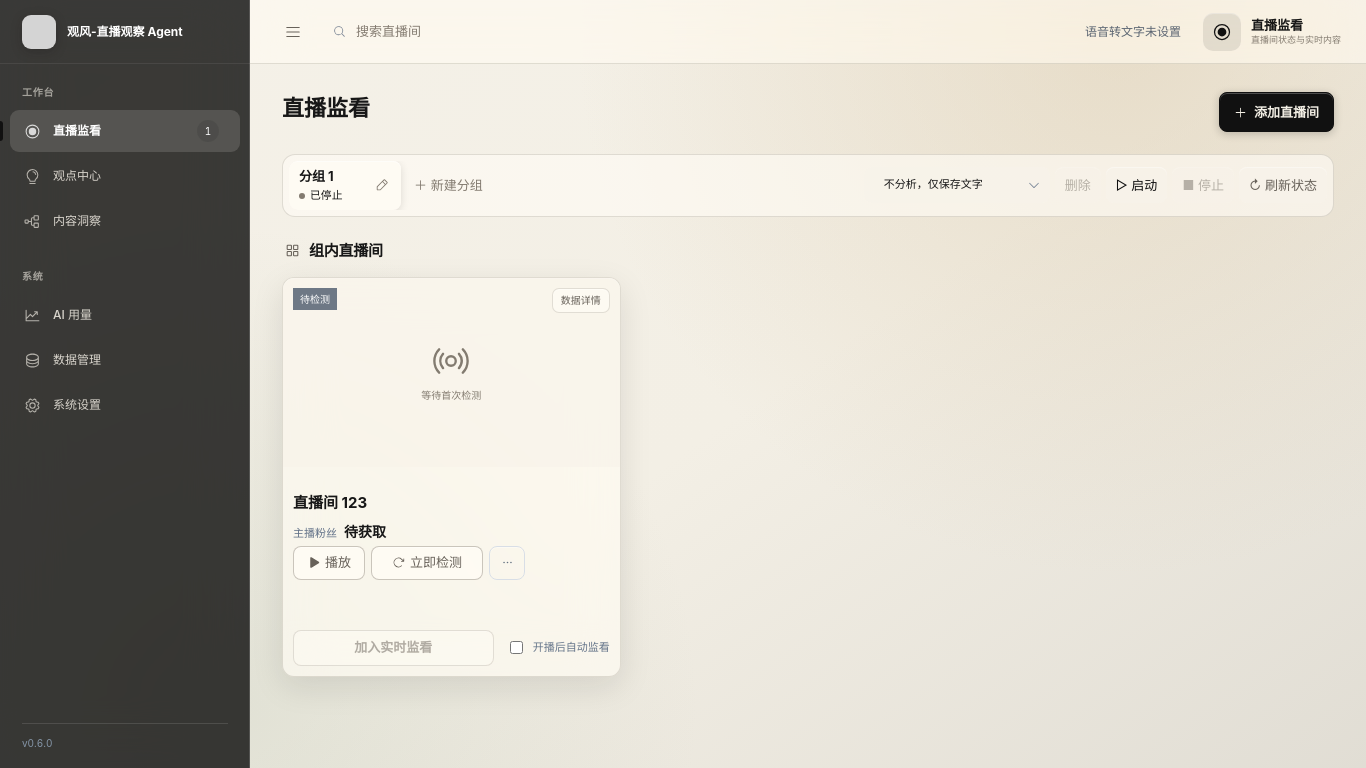
it: room form › opens an existing room for editing
Click the button named "更多操作".
click(507, 562)  # box [489,546,525,580]
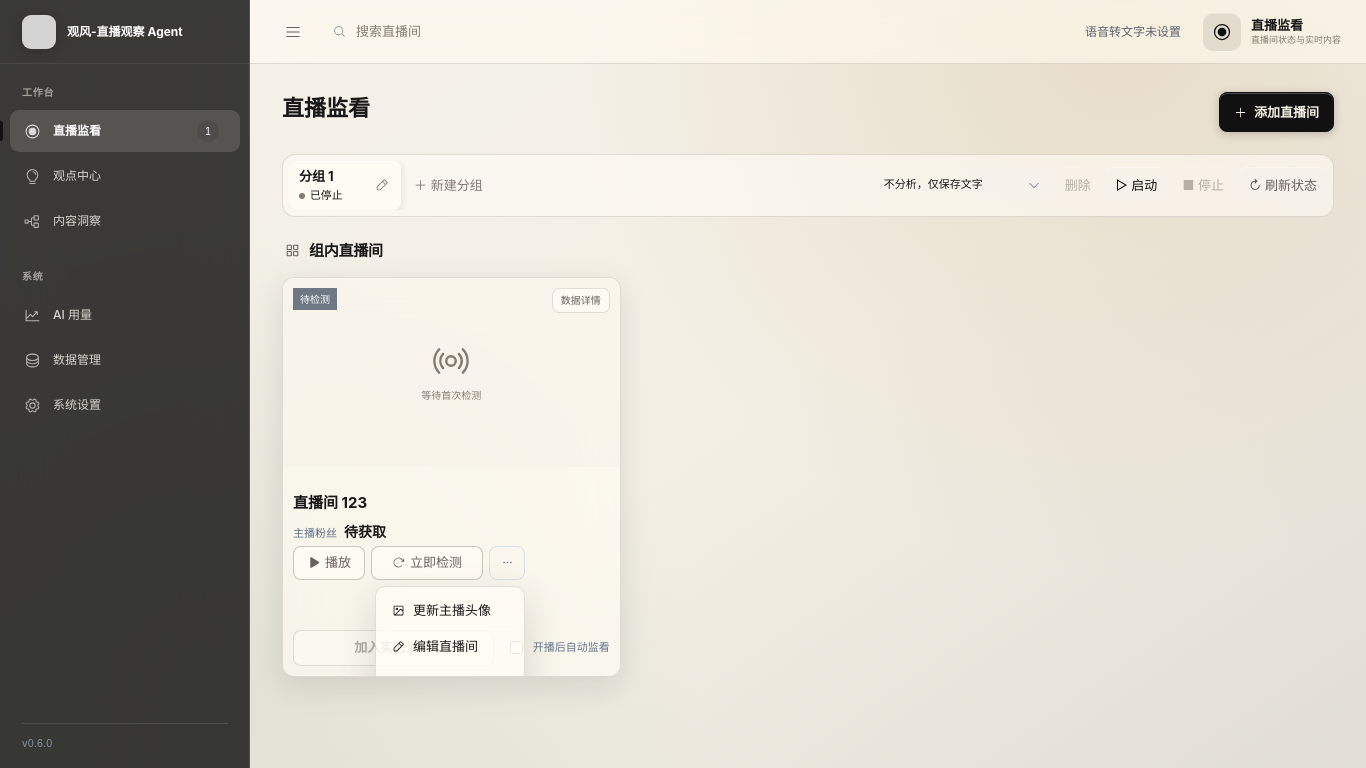
Click the menu item "编辑直播间".
click(450, 646)  # box [382,628,518,664]
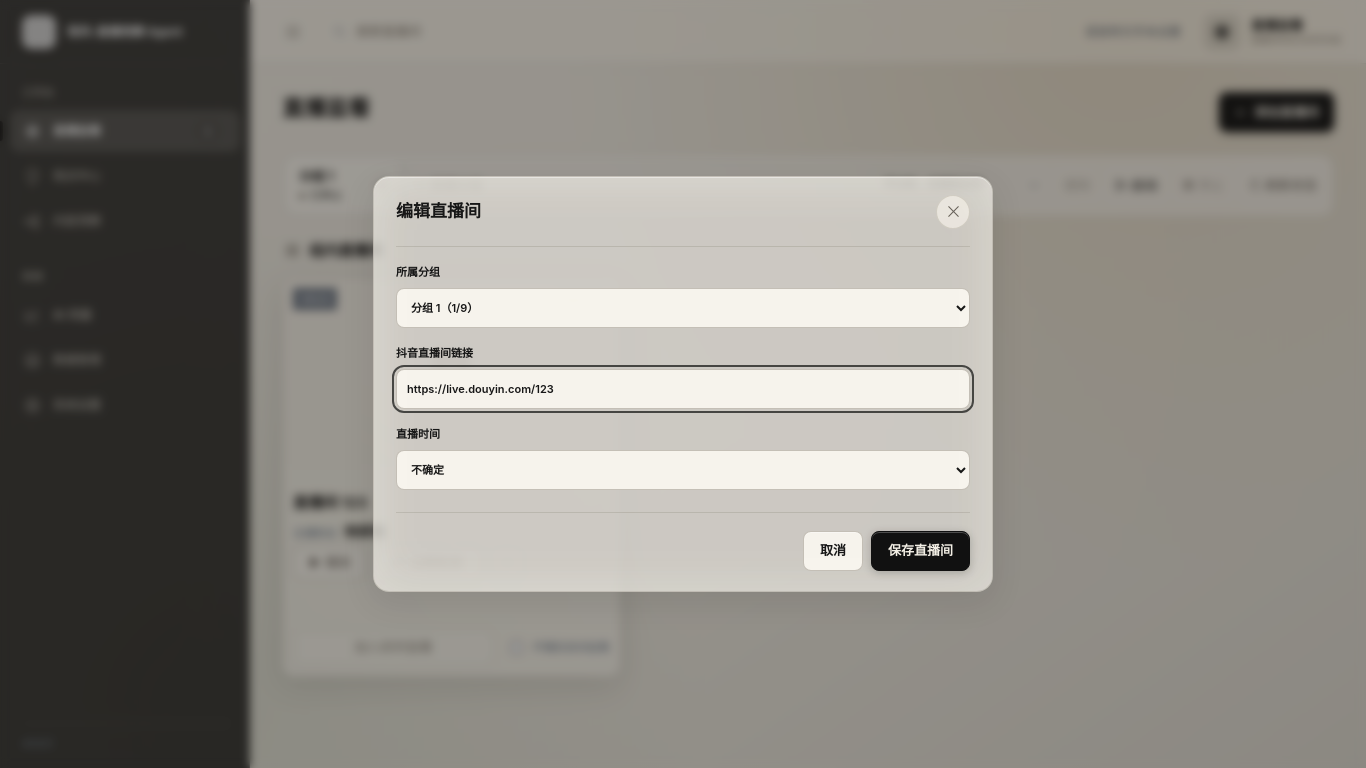
Check: the heading "编辑直播间" is shown, box [396,199,481,224]
Check: the field showing "https://live.douyin.com/123" is shown, box [396,369,970,409]
